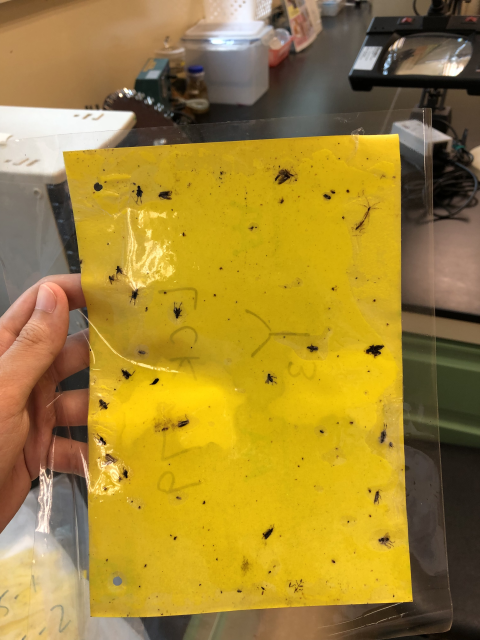DBM: (260, 523, 275, 542), (176, 412, 190, 431), (102, 451, 118, 466), (373, 488, 384, 507), (278, 173, 292, 186)
